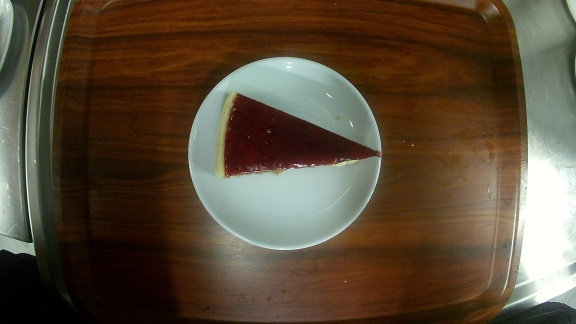frambuazlipasta: (187, 56, 383, 249)
